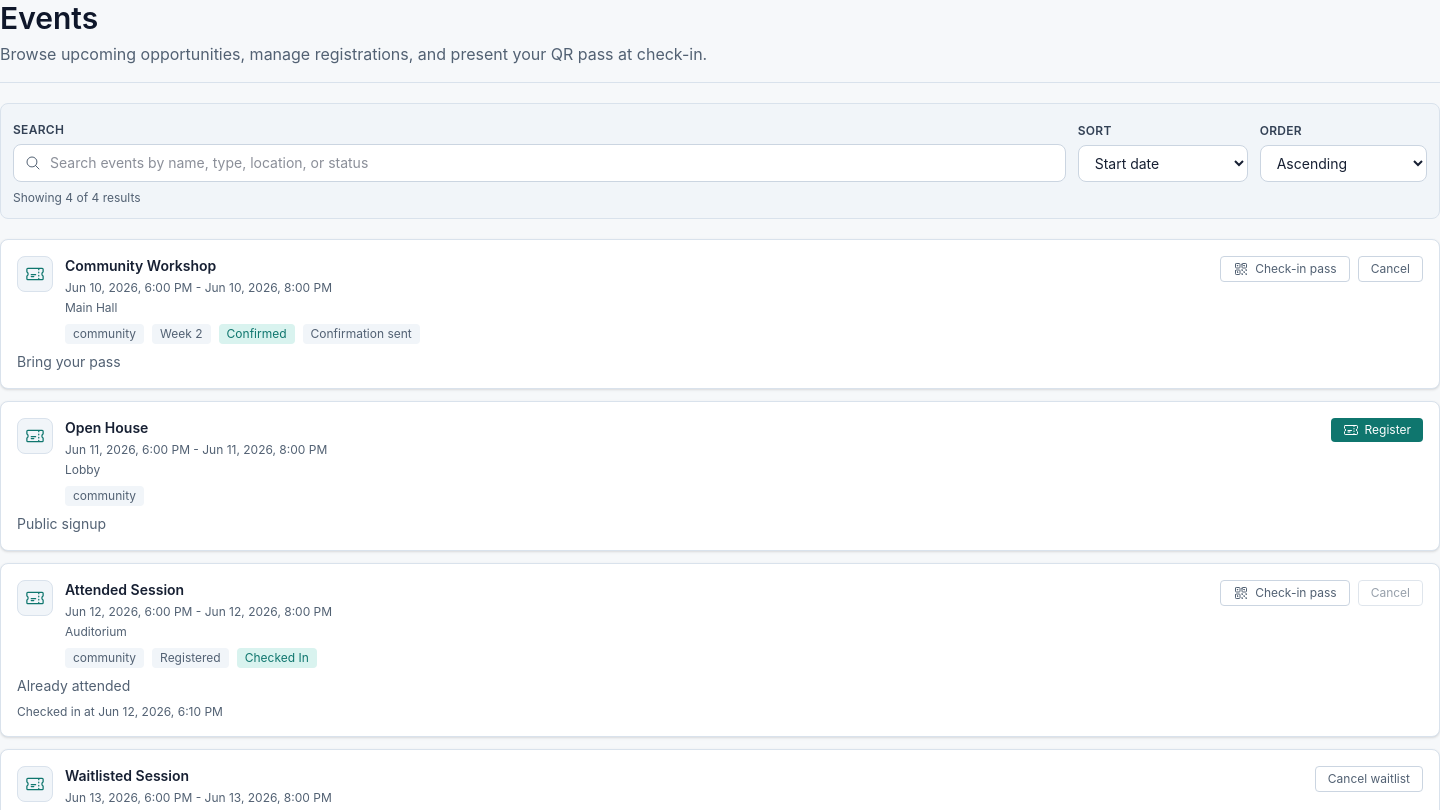
Scenario: PortalEventsPage › shows attendee QR pass modal for registered events
Click the button "Check-in pass" in the row of "Community Workshop" at (1285, 268), box [1220, 256, 1350, 282]
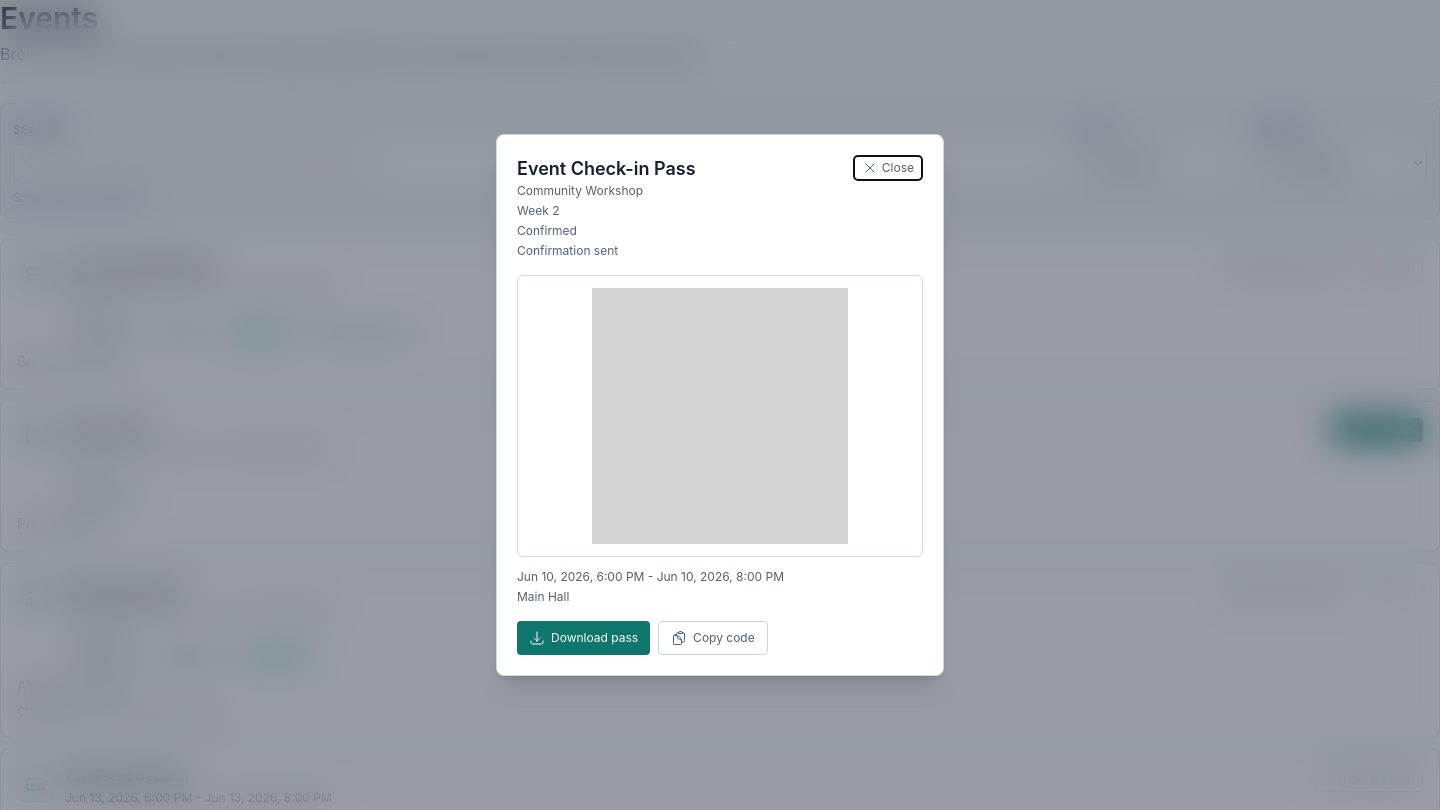
Result: the dialog "Event Check-in Pass" is shown at [496, 134, 944, 676]
Result: the button "Download pass" is shown at [517, 621, 650, 655]
